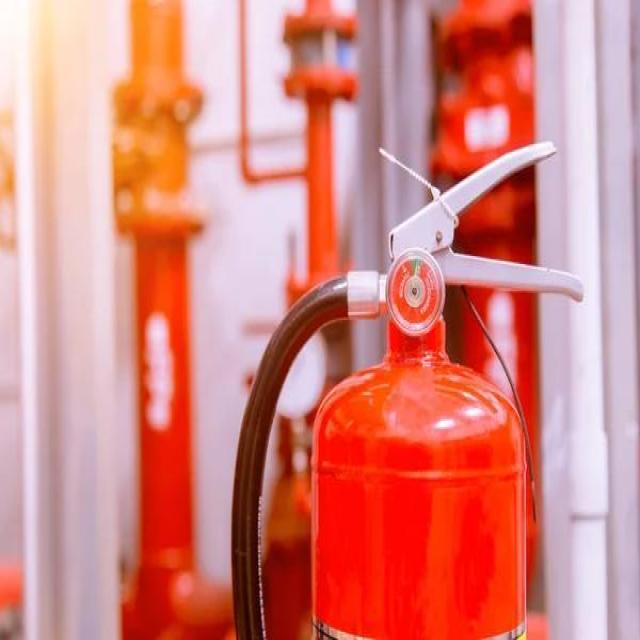FireExtinguisher: (228, 134, 590, 638)
